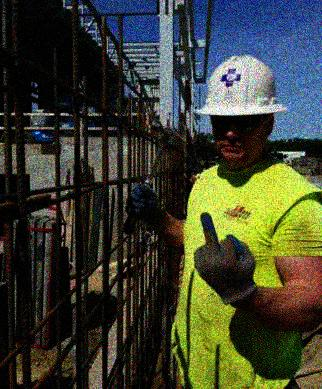helmet: (192, 54, 288, 166)
